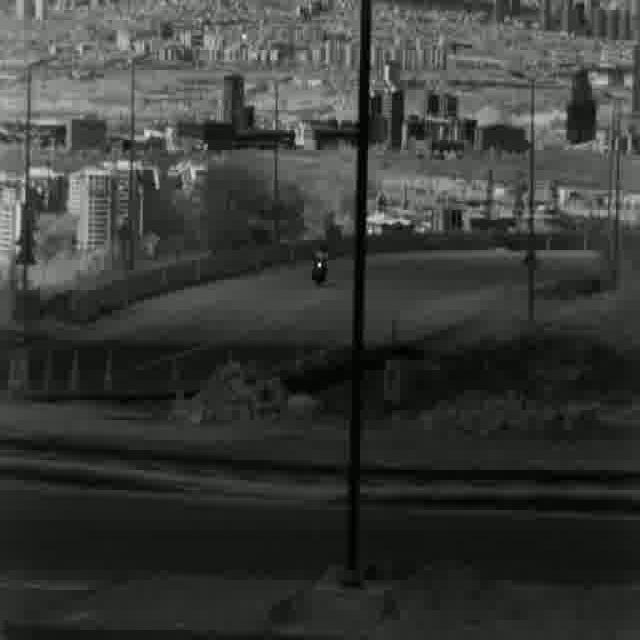Motorcycle: (306, 241, 332, 289)
